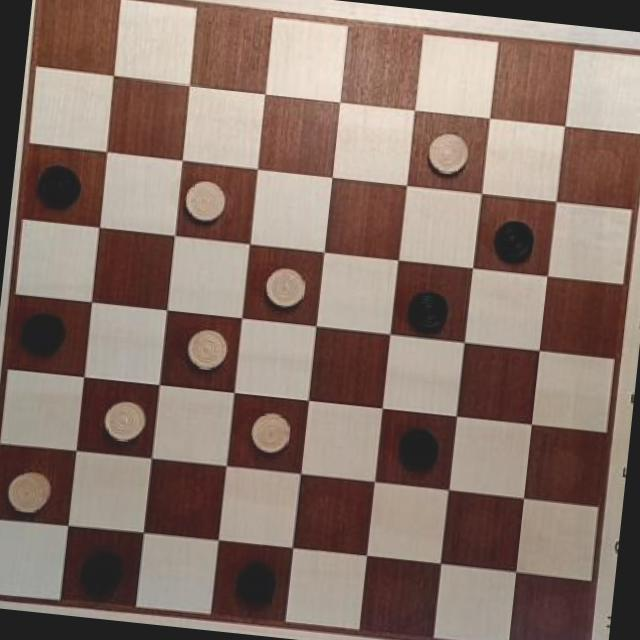BOARD: (0, 0, 640, 640)
black: (224, 554, 286, 616), (10, 302, 72, 360), (389, 422, 445, 480), (32, 157, 84, 217), (77, 542, 130, 600), (403, 280, 452, 336), (488, 212, 536, 265)
white: (0, 456, 56, 516), (257, 260, 309, 312), (180, 322, 233, 373), (96, 398, 146, 448), (424, 126, 474, 176), (248, 408, 294, 458), (184, 175, 230, 222)
